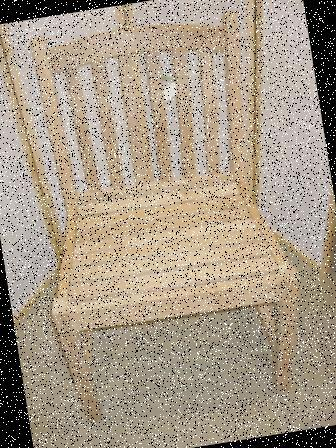Silla: (5, 3, 317, 424)
